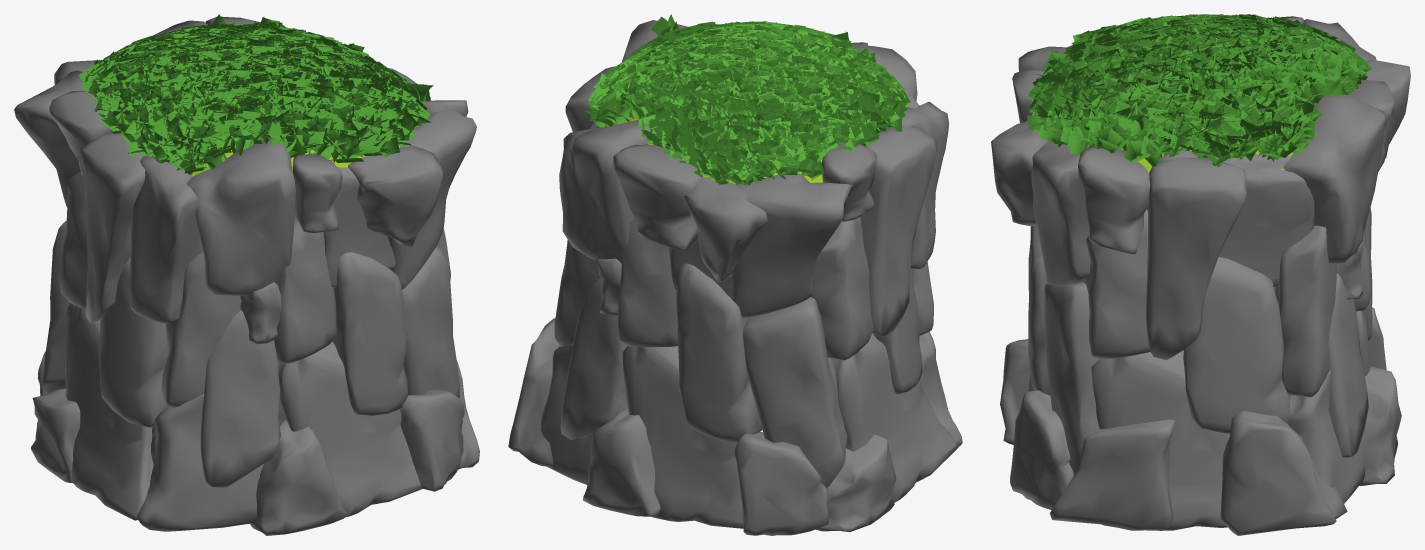
Rendered from SM_cliff_nature_03.fbx.
The picture shows the model from 3 angles, left to right: view 1: azimuth 30°, elevation 25°; view 2: azimuth 150°, elevation 25°; view 3: azimuth 270°, elevation 25°; orthographic projection. The views are drawn at different scales.
Parts seen in each view (by area): view 1: Object3427851; view 2: Object3427851; view 3: Object3427851.
Part boxes in pixels (left/top/right/bottom): Object3427851: left=14, top=14, right=479, bottom=535; Object3427851: left=508, top=14, right=962, bottom=535; Object3427851: left=991, top=14, right=1410, bottom=535.
Size of the model in its own units: 495 by 550 by 508.
